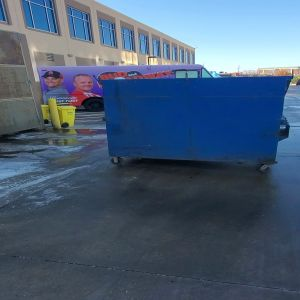Dumpster: (99, 78, 290, 175)
